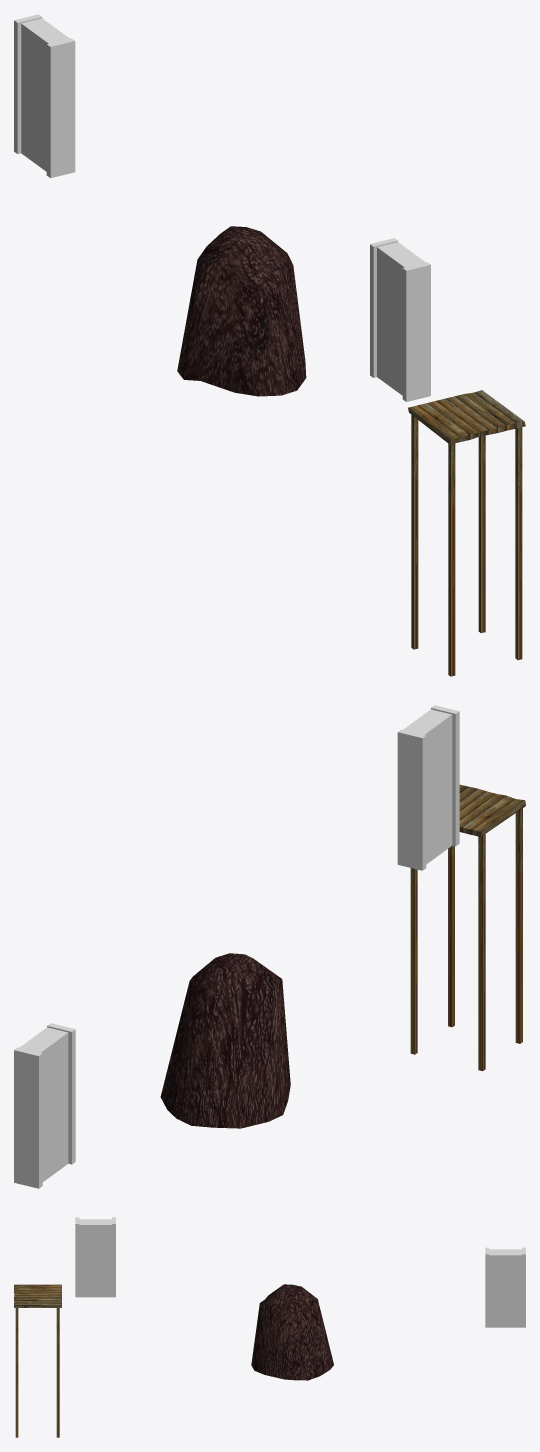
The model's file is riverEnviroModels.fbx.
3 views of the same model, one above another, from view 1: azimuth 30°, elevation 25°; view 2: azimuth 150°, elevation 25°; view 3: azimuth 270°, elevation 25° (orthographic). The views are drawn at different scales.
Parts seen in each view (by area): view 1: Mud, DockPlatform, RiverWall0, RiverWall0.001; view 2: Mud, RiverWall0.001, RiverWall0, DockPlatform; view 3: Mud, RiverWall0.001, RiverWall0, DockPlatform.
Part boxes in pixels (bbox=[...]): Mud: bbox=[177, 226, 306, 396]; DockPlatform: bbox=[408, 390, 525, 676]; RiverWall0: bbox=[14, 14, 75, 178]; RiverWall0.001: bbox=[370, 238, 430, 401]; Mud: bbox=[160, 953, 290, 1128]; RiverWall0.001: bbox=[397, 705, 459, 870]; RiverWall0: bbox=[14, 1023, 75, 1188]; DockPlatform: bbox=[410, 784, 525, 1071]; Mud: bbox=[251, 1284, 333, 1380]; RiverWall0.001: bbox=[75, 1217, 115, 1297]; RiverWall0: bbox=[485, 1247, 525, 1327]; DockPlatform: bbox=[14, 1284, 61, 1437].
Size of what is drawn, in the model's own units: 1106 by 3303 by 7545.
